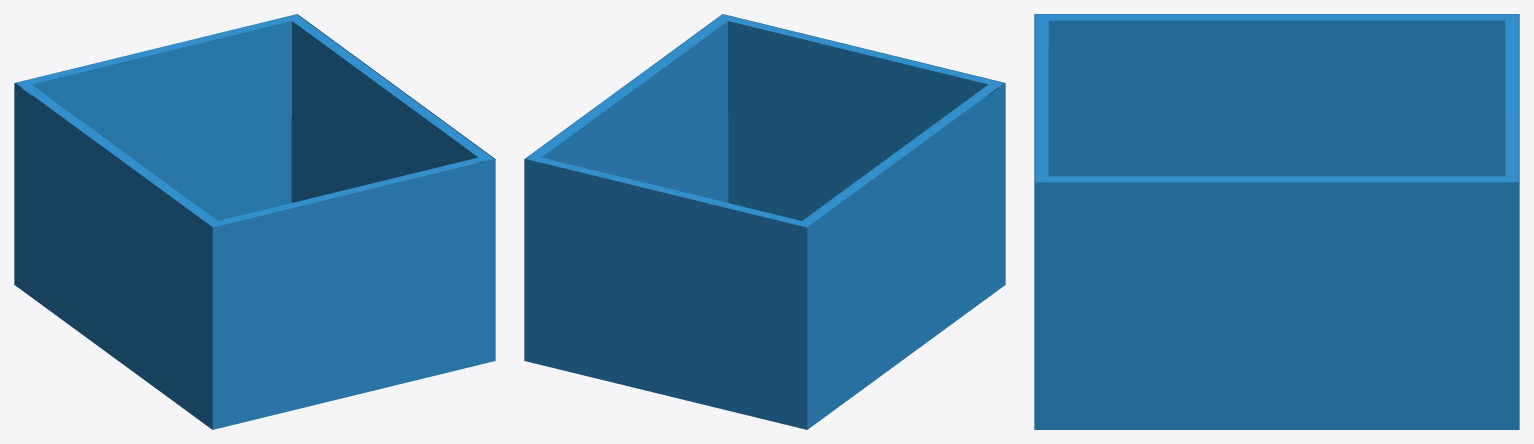
3 views of the same model, side by side, from view 1: azimuth 30°, elevation 25°; view 2: azimuth 150°, elevation 25°; view 3: azimuth 270°, elevation 25° (orthographic). The views are drawn at different scales.
Visible parts, largest first — view 1: Cubo_3; view 2: Cubo_3; view 3: Cubo_3.
Part boxes in pixels (left/top/right/bottom): Cubo_3: left=14, top=14, right=495, bottom=429; Cubo_3: left=524, top=14, right=1005, bottom=429; Cubo_3: left=1034, top=14, right=1519, bottom=429.
Size of the model in its own units: 205 by 140 by 249.
